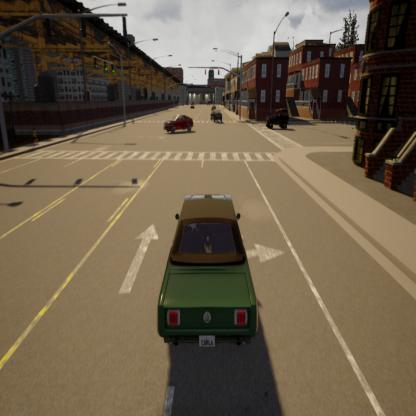Cars: (157, 197, 257, 346), (164, 114, 194, 134), (266, 107, 290, 130), (210, 108, 223, 123)
